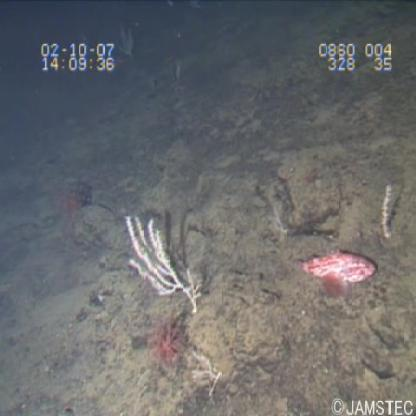Bio: (119, 208, 205, 322), (289, 242, 385, 302)
